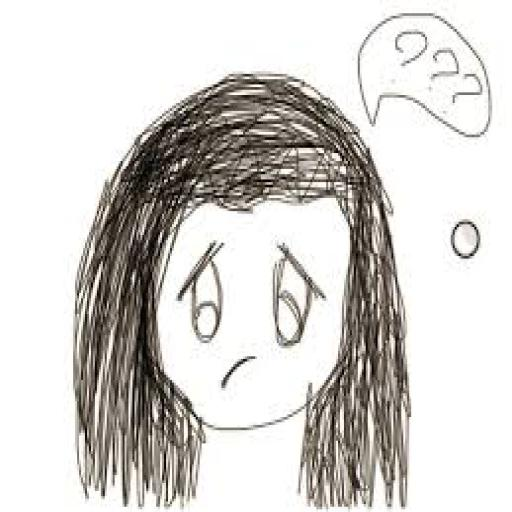person: (71, 66, 413, 508)
